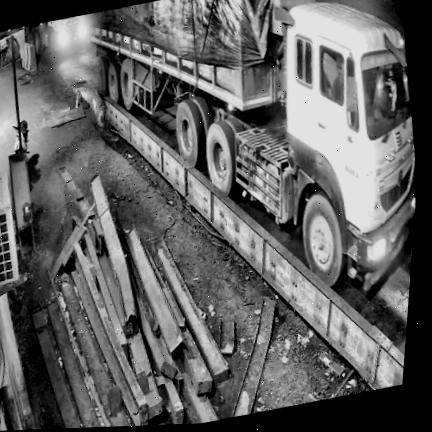tyre: (303, 192, 344, 286), (206, 120, 236, 195), (176, 101, 206, 166), (193, 96, 212, 133), (120, 58, 133, 110), (108, 62, 122, 103), (98, 56, 110, 97)
